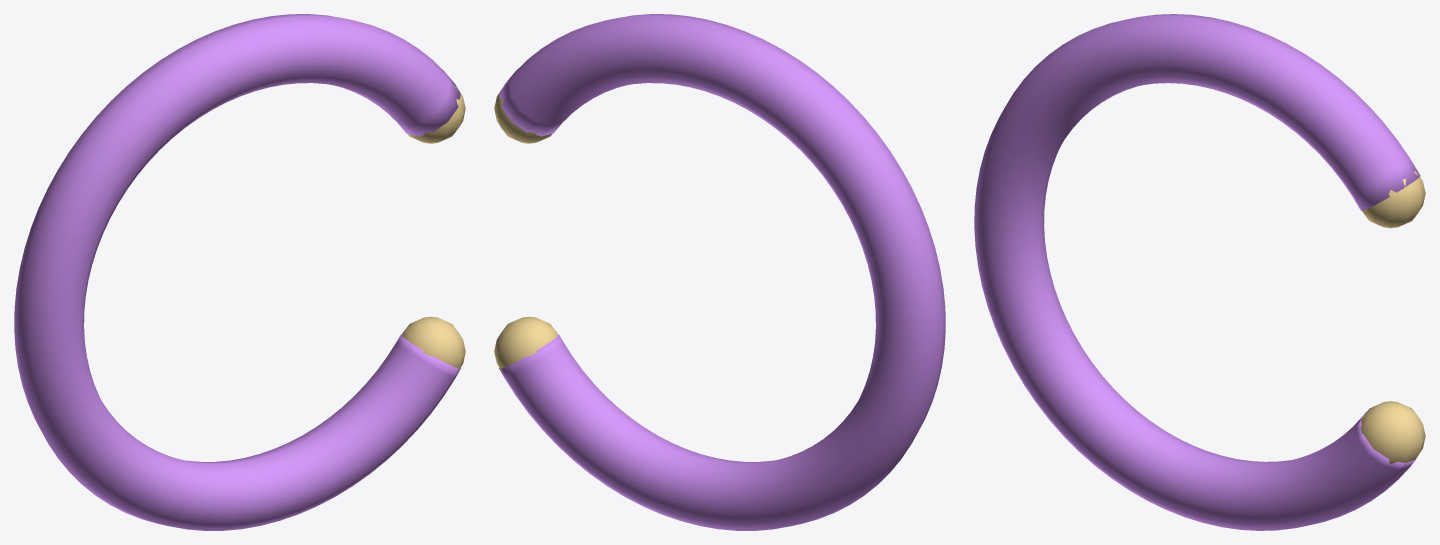
Rendered from small-arc-DonkNpGZ.glb.
3 views of the same model, side by side, from view 1: azimuth 30°, elevation 25°; view 2: azimuth 150°, elevation 25°; view 3: azimuth 330°, elevation 25° (orthographic).
Parts seen in each view (by area): view 1: R3D_small-arc_Body_0, R3D_small-arc_Tip_1, R3D_small-arc_Tip_0; view 2: R3D_small-arc_Body_0, R3D_small-arc_Tip_1, R3D_small-arc_Tip_0; view 3: R3D_small-arc_Body_0, R3D_small-arc_Tip_1, R3D_small-arc_Tip_0.
Part boxes in pixels (x1,y1,x2,y2): R3D_small-arc_Body_0: [14, 14, 460, 530]; R3D_small-arc_Tip_1: [401, 316, 465, 372]; R3D_small-arc_Tip_0: [408, 86, 465, 143]; R3D_small-arc_Body_0: [499, 14, 945, 530]; R3D_small-arc_Tip_1: [494, 316, 558, 372]; R3D_small-arc_Tip_0: [494, 86, 551, 143]; R3D_small-arc_Body_0: [974, 14, 1420, 530]; R3D_small-arc_Tip_1: [1360, 401, 1425, 467]; R3D_small-arc_Tip_0: [1361, 171, 1425, 228].
Size of the model in its own units: 1.32 by 1.42 by 0.18.
